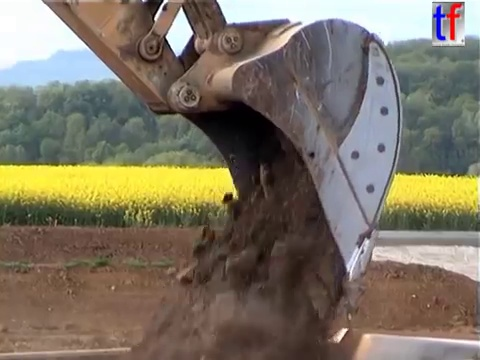excavator: (36, 1, 407, 324)
truck: (1, 324, 479, 360)
